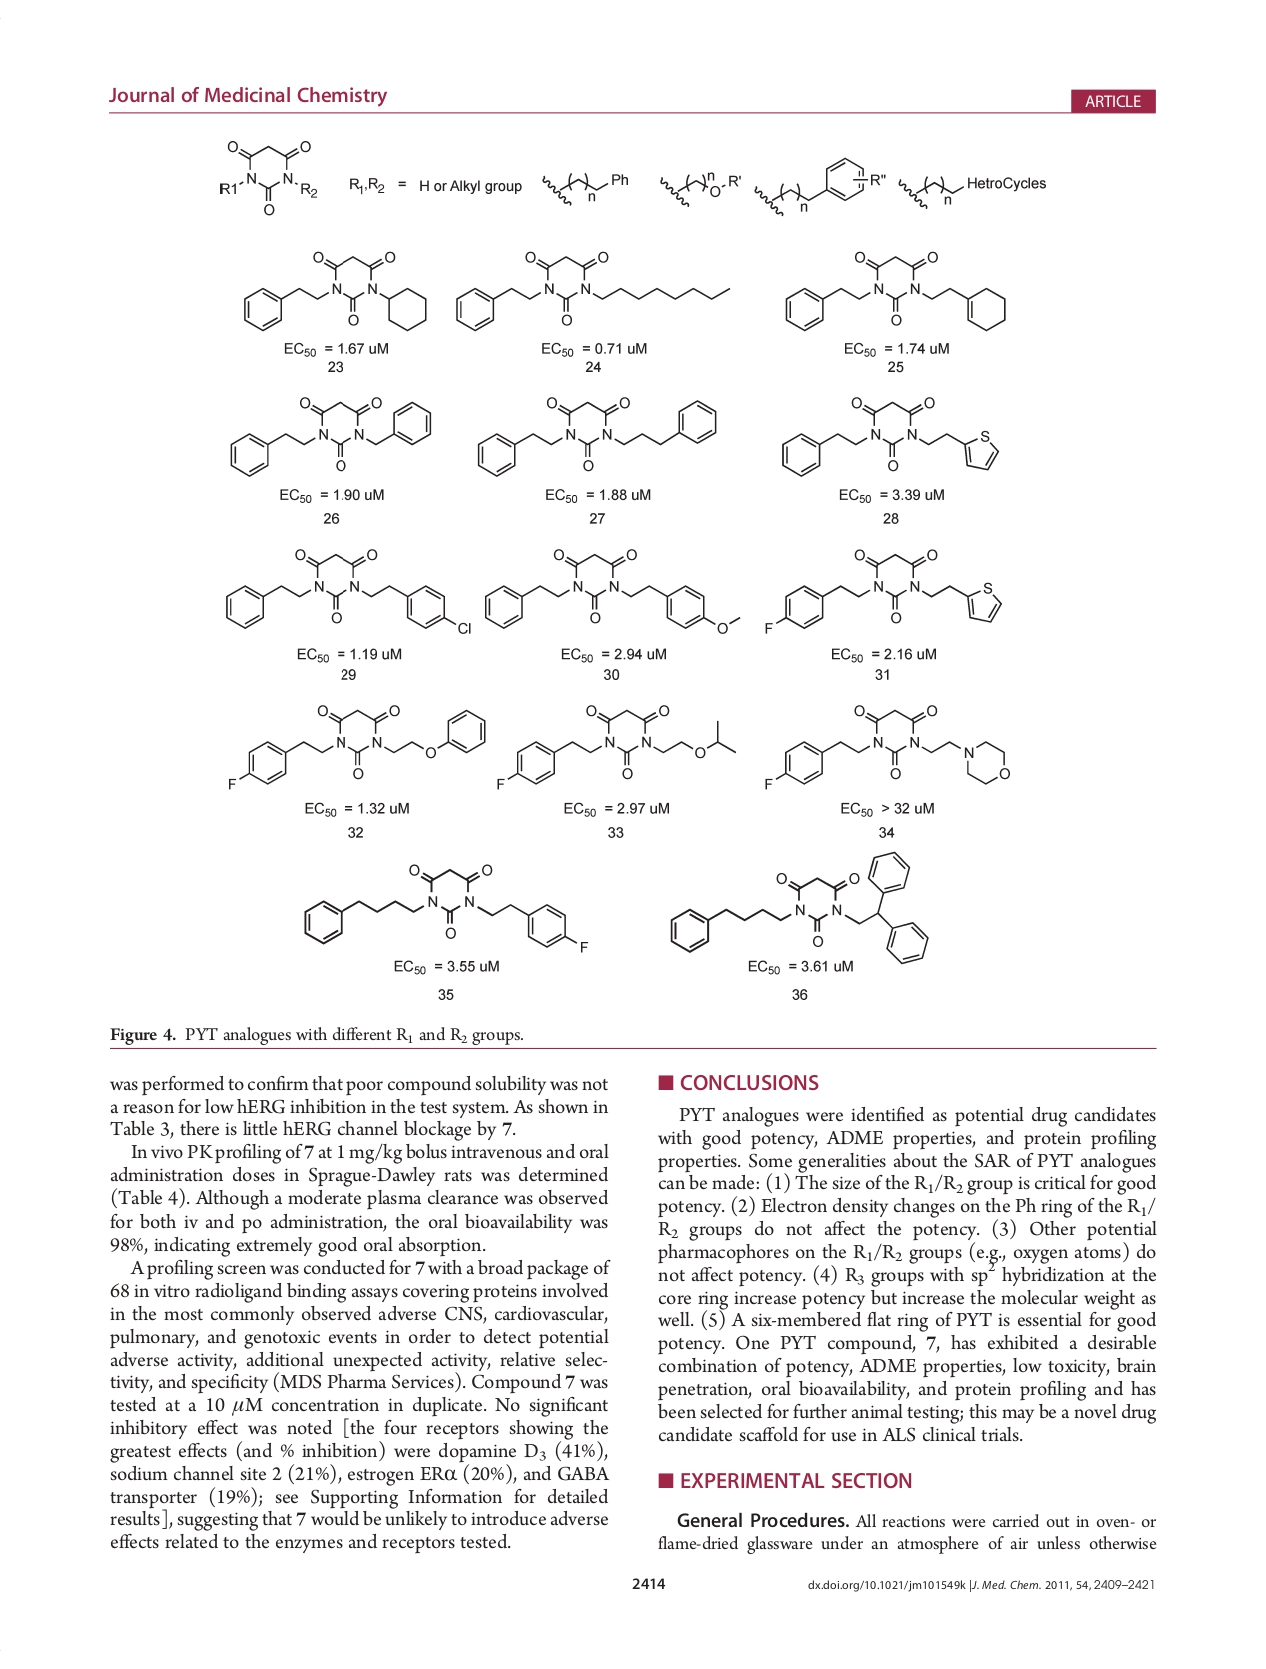exist_molecular: (668, 850, 932, 965), (299, 858, 589, 954), (449, 243, 730, 334), (219, 543, 473, 637), (481, 547, 743, 636), (225, 702, 487, 791), (762, 701, 1011, 793), (762, 547, 1005, 636), (473, 390, 719, 477), (495, 705, 738, 793), (781, 247, 1012, 335), (777, 390, 1004, 479), (227, 394, 436, 477), (239, 245, 430, 332), (214, 133, 324, 218), (751, 156, 887, 218), (892, 166, 1049, 211), (535, 165, 632, 211), (656, 166, 745, 210)
